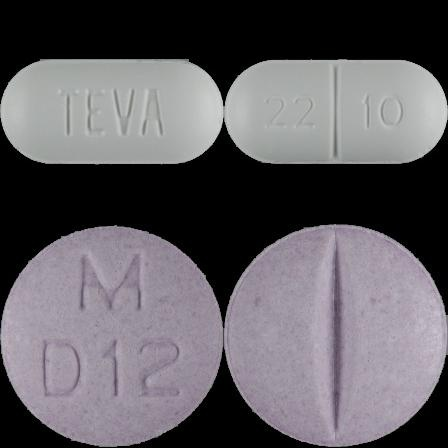63629-1307: (0, 0, 224, 224)
